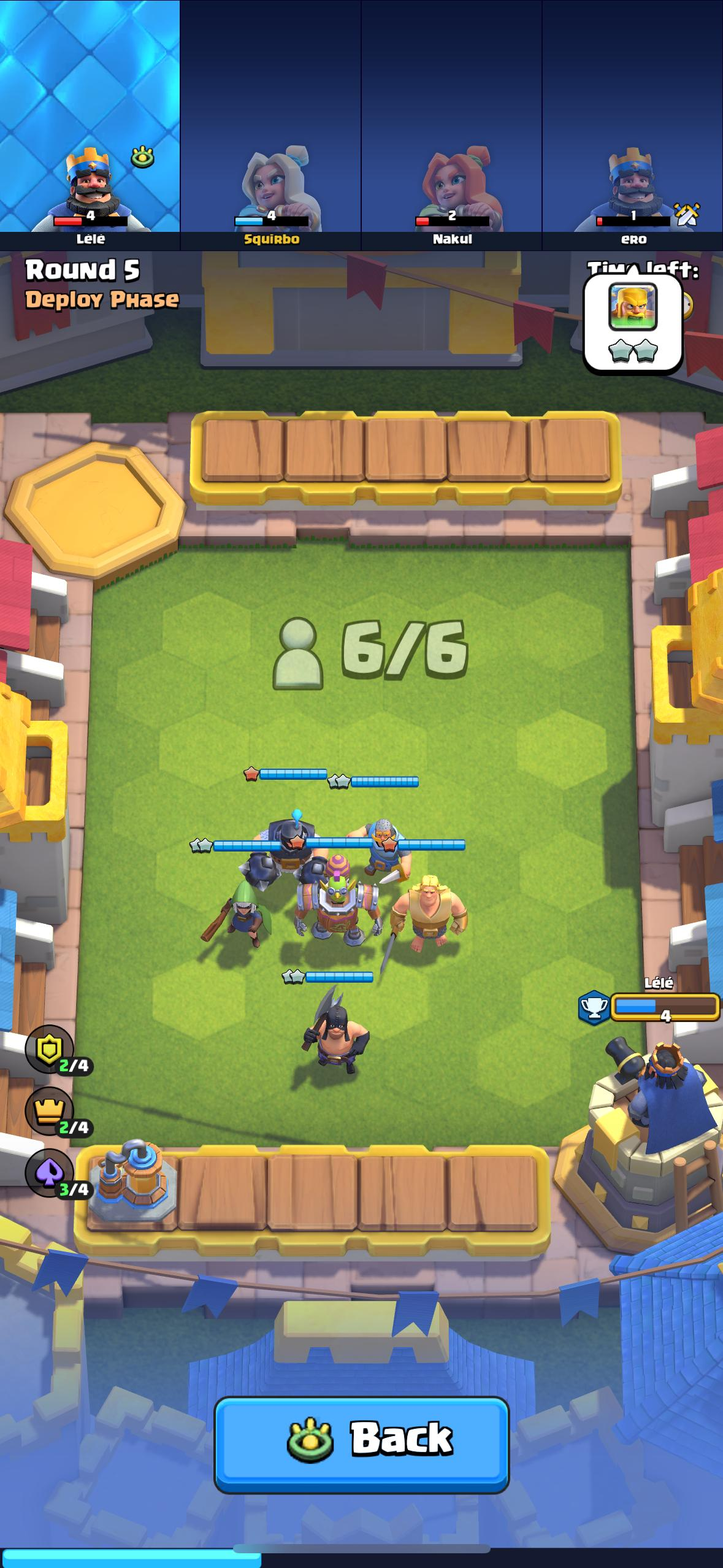bandit: (200, 873, 270, 943)
collector: (83, 1140, 177, 1223)
executioner: (293, 985, 377, 1076)
golden: (384, 868, 470, 954)
knight: (354, 806, 412, 886)
machine: (296, 862, 380, 950)
mega: (254, 797, 332, 890)
